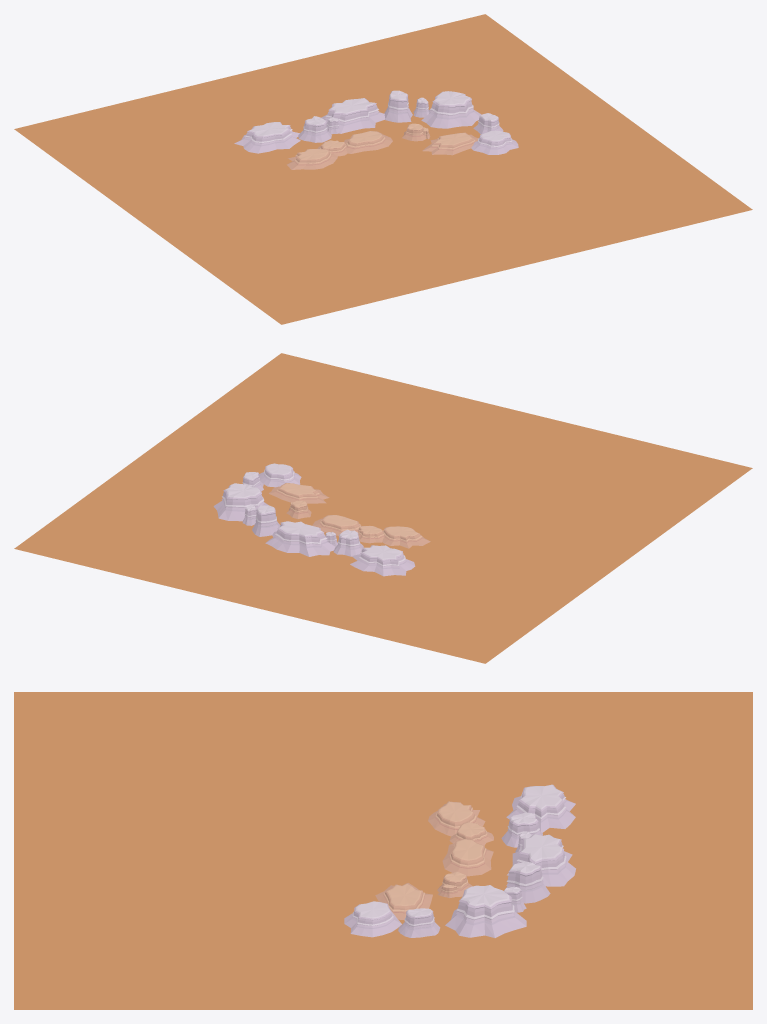
The model's file is Escarpment.gltf.
The picture shows the model from 3 angles, top to bottom: view 1: azimuth 30°, elevation 25°; view 2: azimuth 150°, elevation 25°; view 3: azimuth 270°, elevation 25°; orthographic projection. The views are drawn at different scales.
Parts seen in each view (by area): view 1: BeddedEscarpment; view 2: BeddedEscarpment; view 3: BeddedEscarpment.
Boxes of the visible parts, left/top/right/bottom form: BeddedEscarpment: left=14, top=14, right=752, bottom=324; BeddedEscarpment: left=14, top=353, right=752, bottom=663; BeddedEscarpment: left=14, top=692, right=752, bottom=1009.
Bounding box in the file's own units: 285 × 12.52 × 280.
